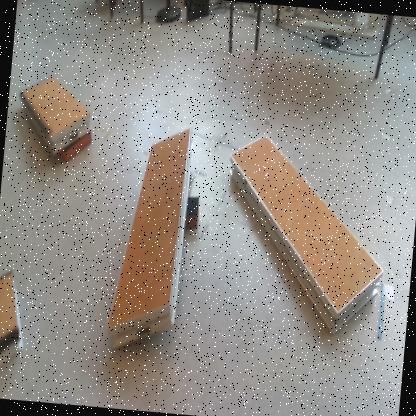Stairs: (229, 134, 383, 337), (107, 129, 196, 354), (20, 75, 92, 157), (1, 271, 25, 370)
